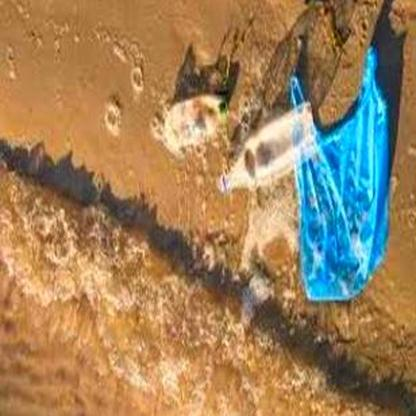plastic bag: (289, 46, 390, 301)
plastic bottle: (216, 102, 319, 192)
